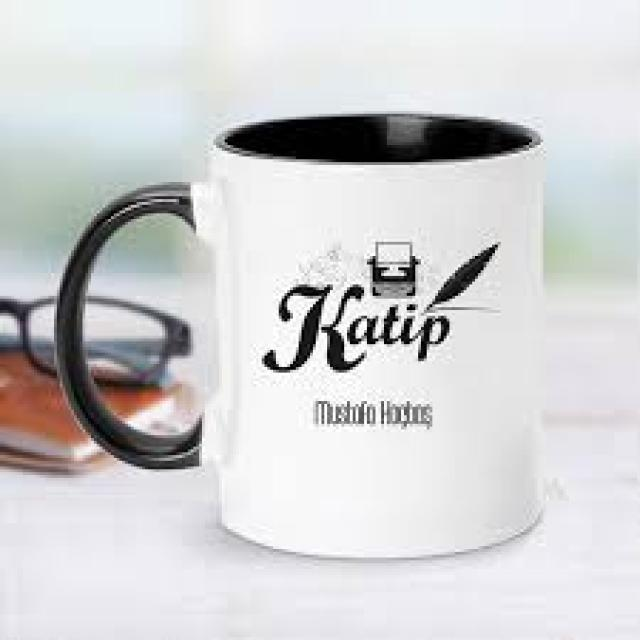taza: (52, 113, 546, 560)
